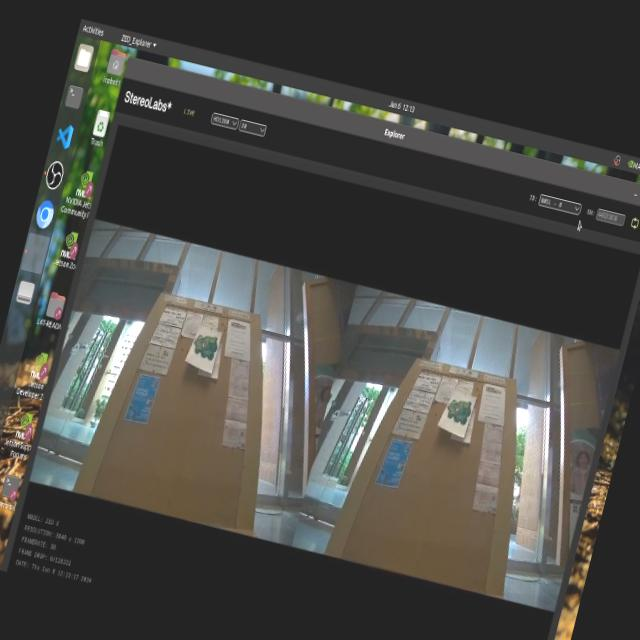green: (182, 330, 222, 368), (444, 396, 475, 438)
